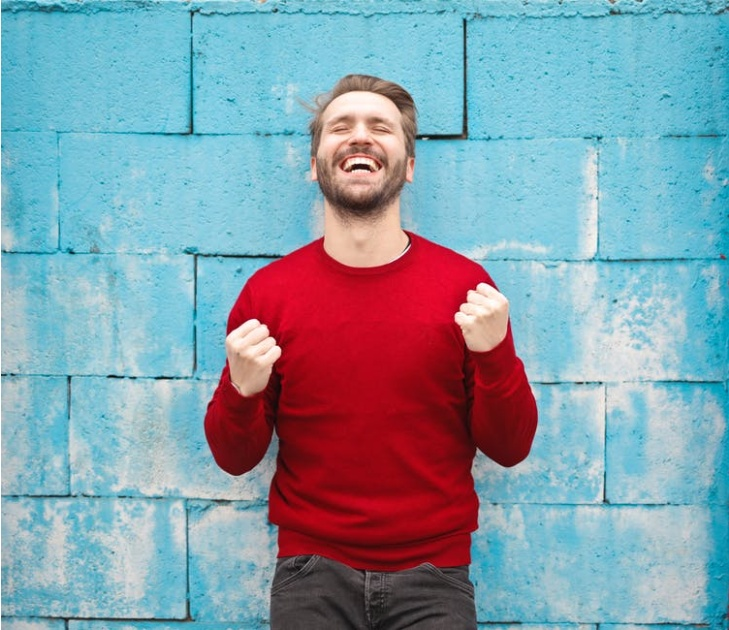face: (312, 91, 407, 207)
